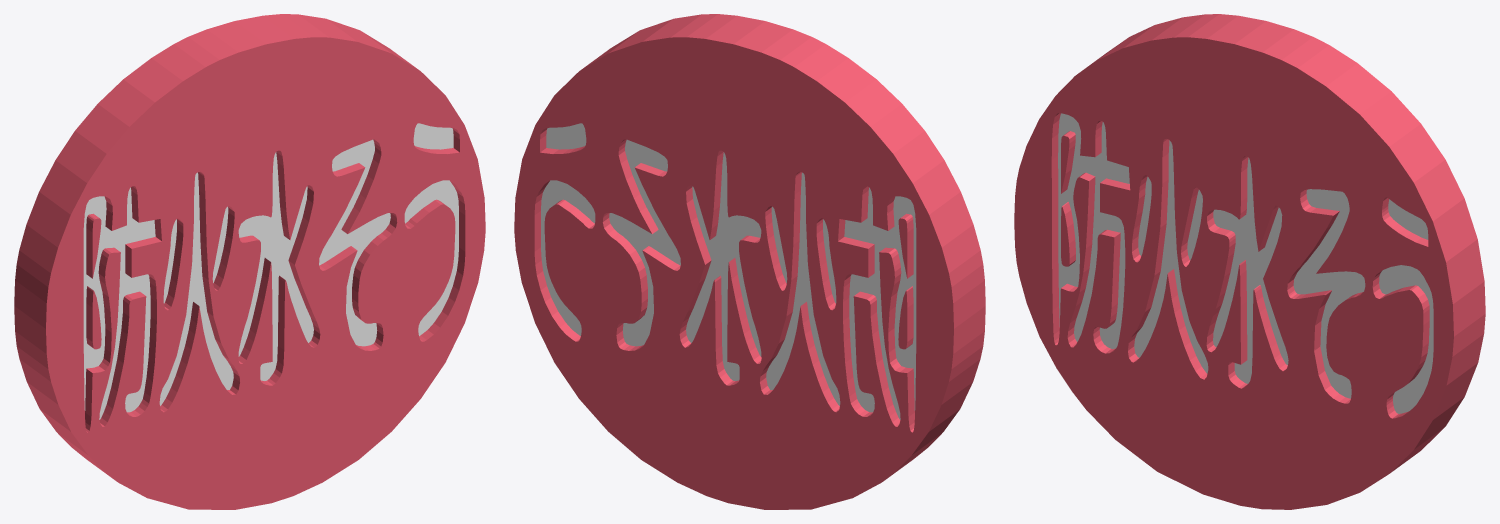
File: bouka-marker-org.fbx
The picture shows the model from 3 angles, left to right: view 1: azimuth 30°, elevation 25°; view 2: azimuth 150°, elevation 25°; view 3: azimuth 330°, elevation 25°; orthographic projection.
Parts seen in each view (by area): view 1: obj_0.012; view 2: obj_0.012; view 3: obj_0.012.
Part boxes in pixels (x1,y1,x2,y2): obj_0.012: (14,14,485,509); obj_0.012: (514,14,985,509); obj_0.012: (1014,14,1485,509).
Size of the model in its own units: 4000 by 4000 by 500.
